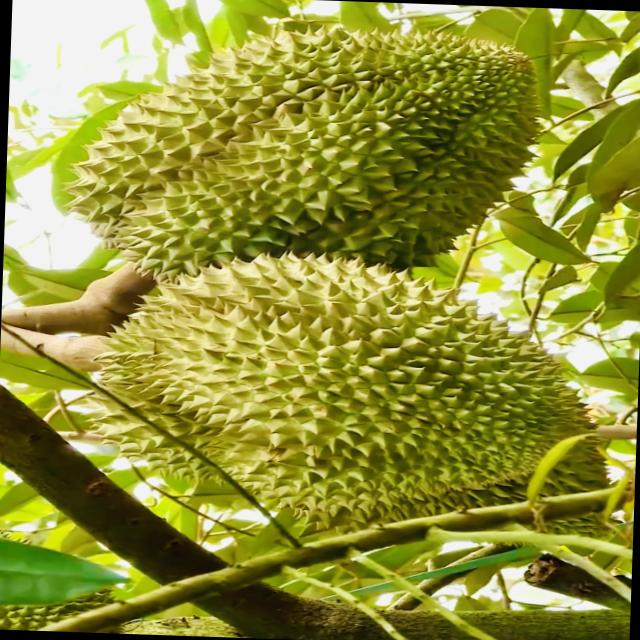Sau Rieng: (116, 262, 603, 520), (71, 23, 547, 281)
